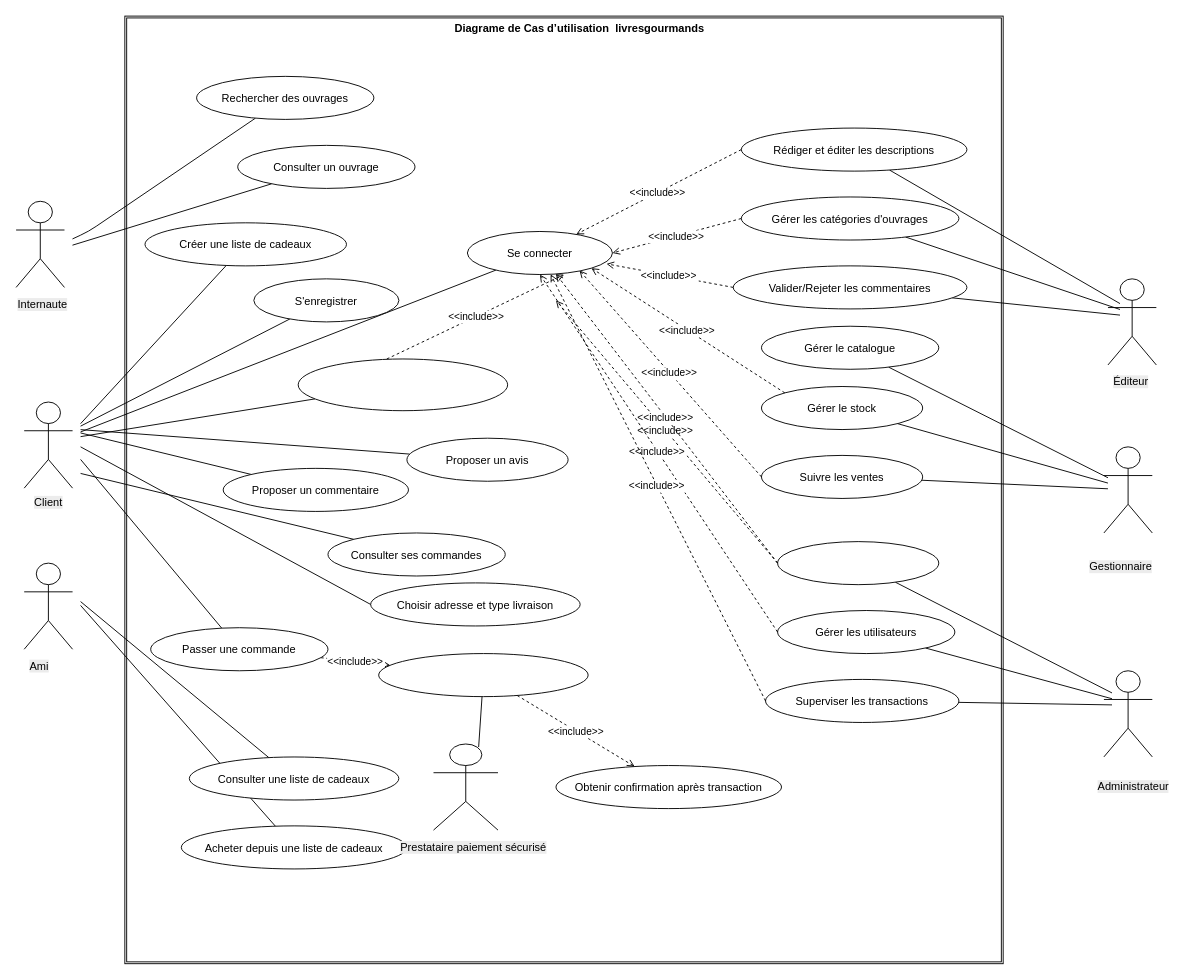
Image size: 1201x980. Some labels were removed from this diagram. The centre of each missing label's shape, as x and y in pixels:
Effectuer paiement en ligne: (x=483, y=675)
Gérer un panier (ajout/retrait/modification): (x=402, y=384)
Maintenir le site: (x=858, y=563)
